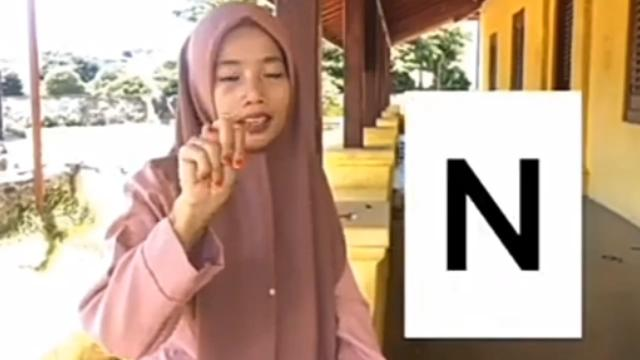N: (175, 118, 253, 209)
